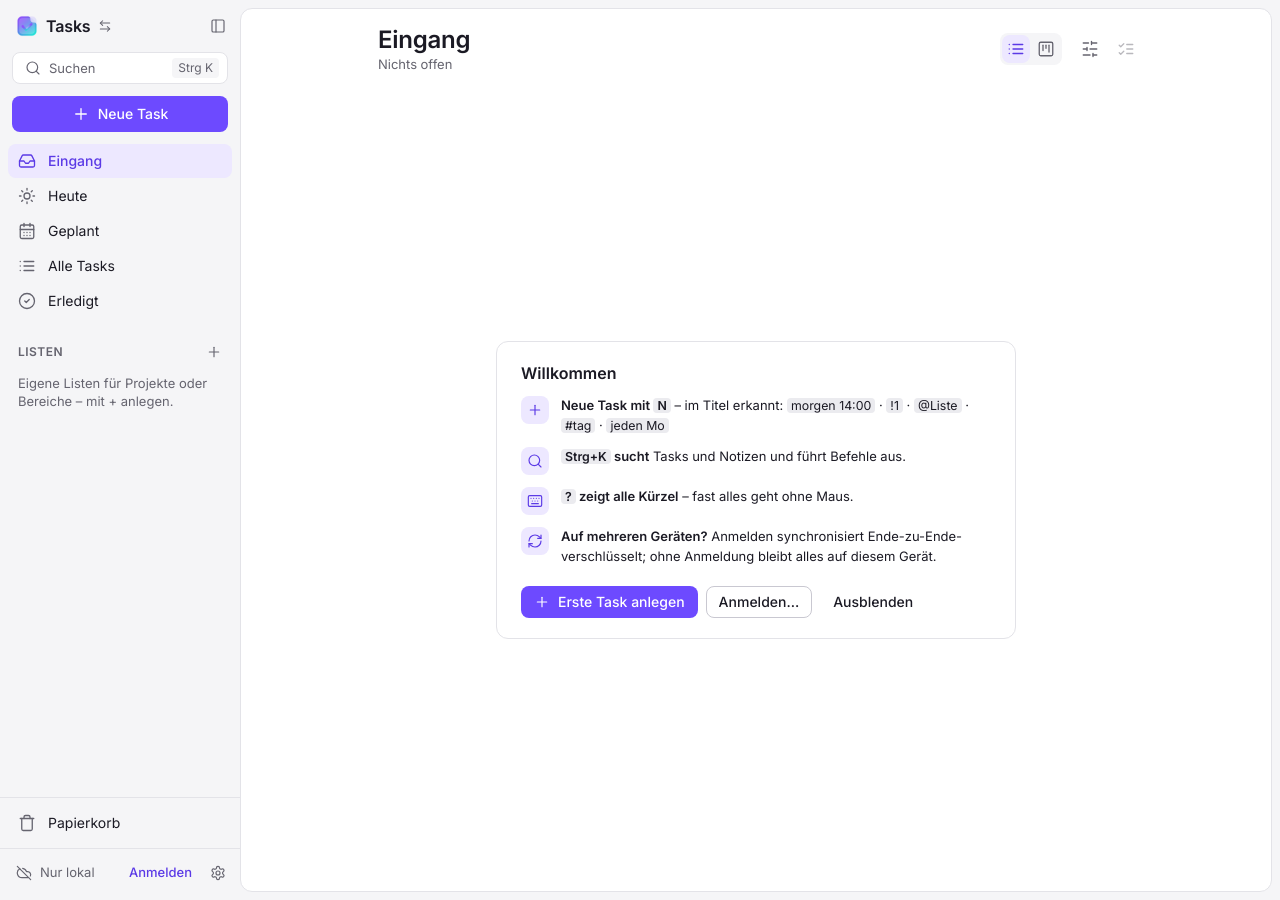
Test: Login & Sync-Status › works without login and shows the local-only state
Expected: the heading "Eingang" is shown, 378,25 -> 470,55
Click the button named "Einstellungen" at (218, 873), box 204,859 -> 232,887
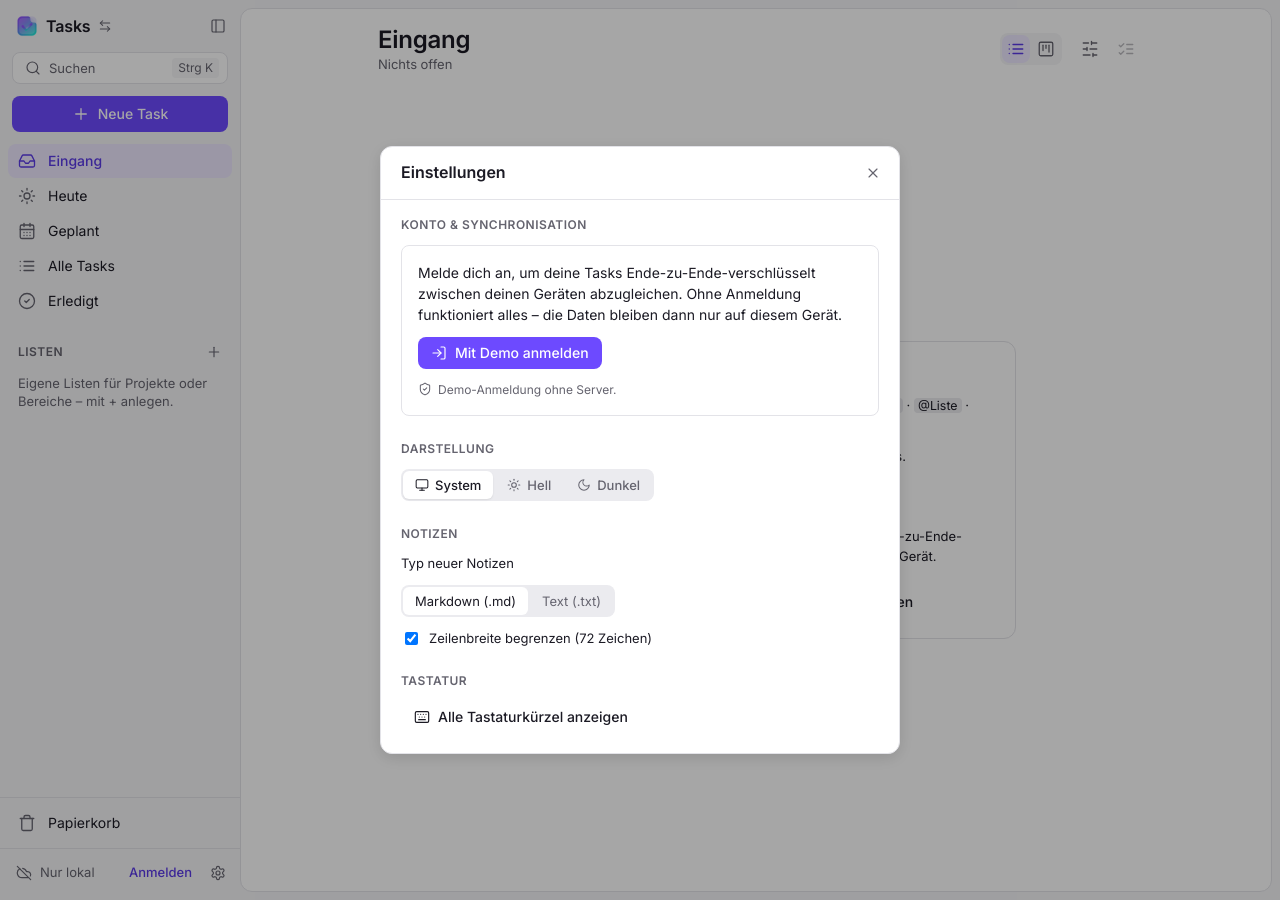
Expected: the button with aria-label "Sync-Status: Nur auf diesem Gerät" is shown, 8,857 -> 117,888
Now the text "Ohne Anmeldung funktioniert alles" is shown, box 418,264 -> 842,323
Now the text "Demo-Anmeldung ohne Server." is shown, box 418,382 -> 616,397
